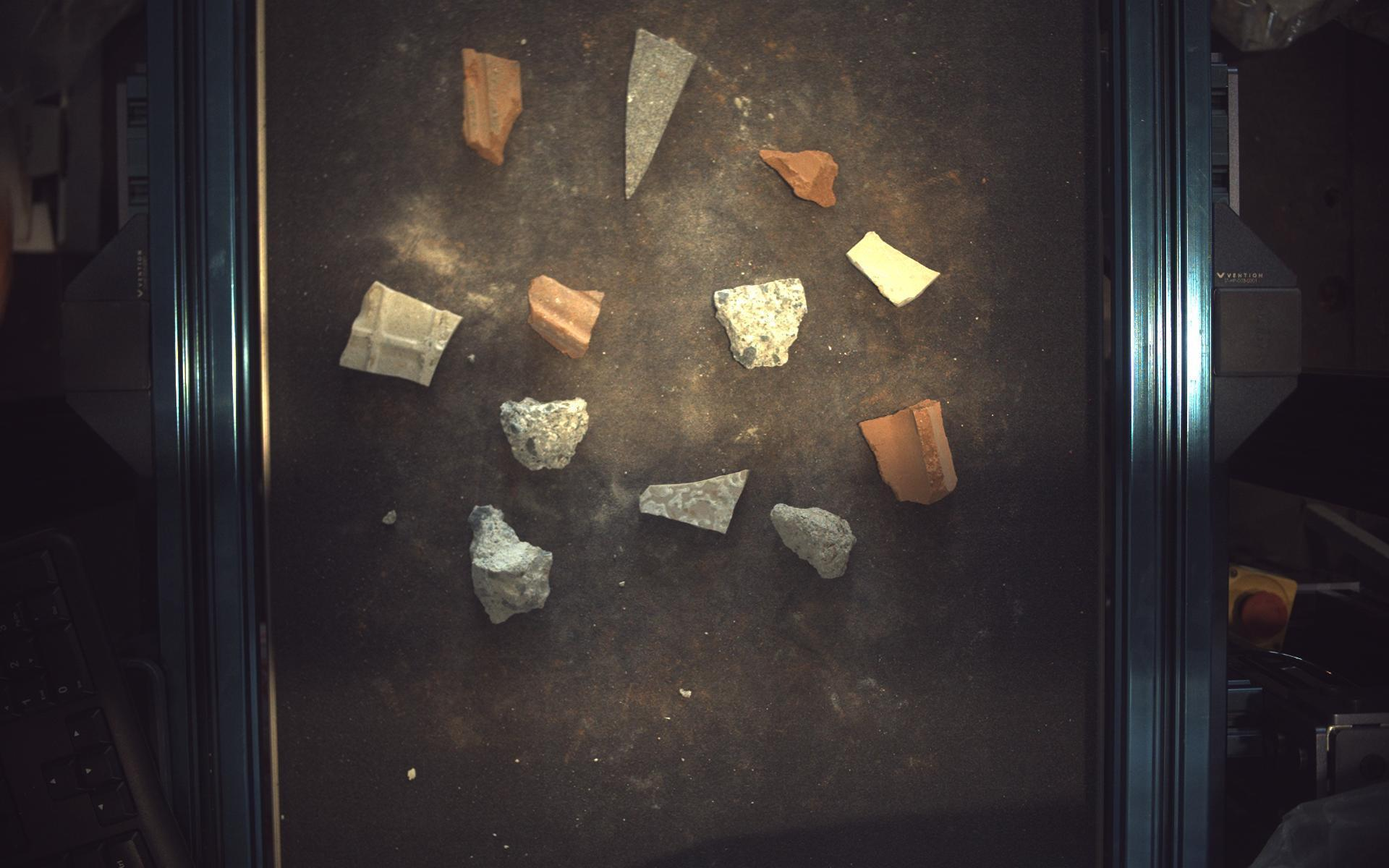brick: (861, 399, 959, 506), (462, 47, 523, 163), (529, 275, 605, 359), (762, 149, 840, 206)
concrete: (469, 506, 553, 625), (715, 278, 809, 369), (501, 397, 590, 471), (772, 504, 857, 579)
tile: (339, 281, 462, 386), (626, 27, 697, 198), (640, 469, 749, 534), (849, 231, 942, 306)
